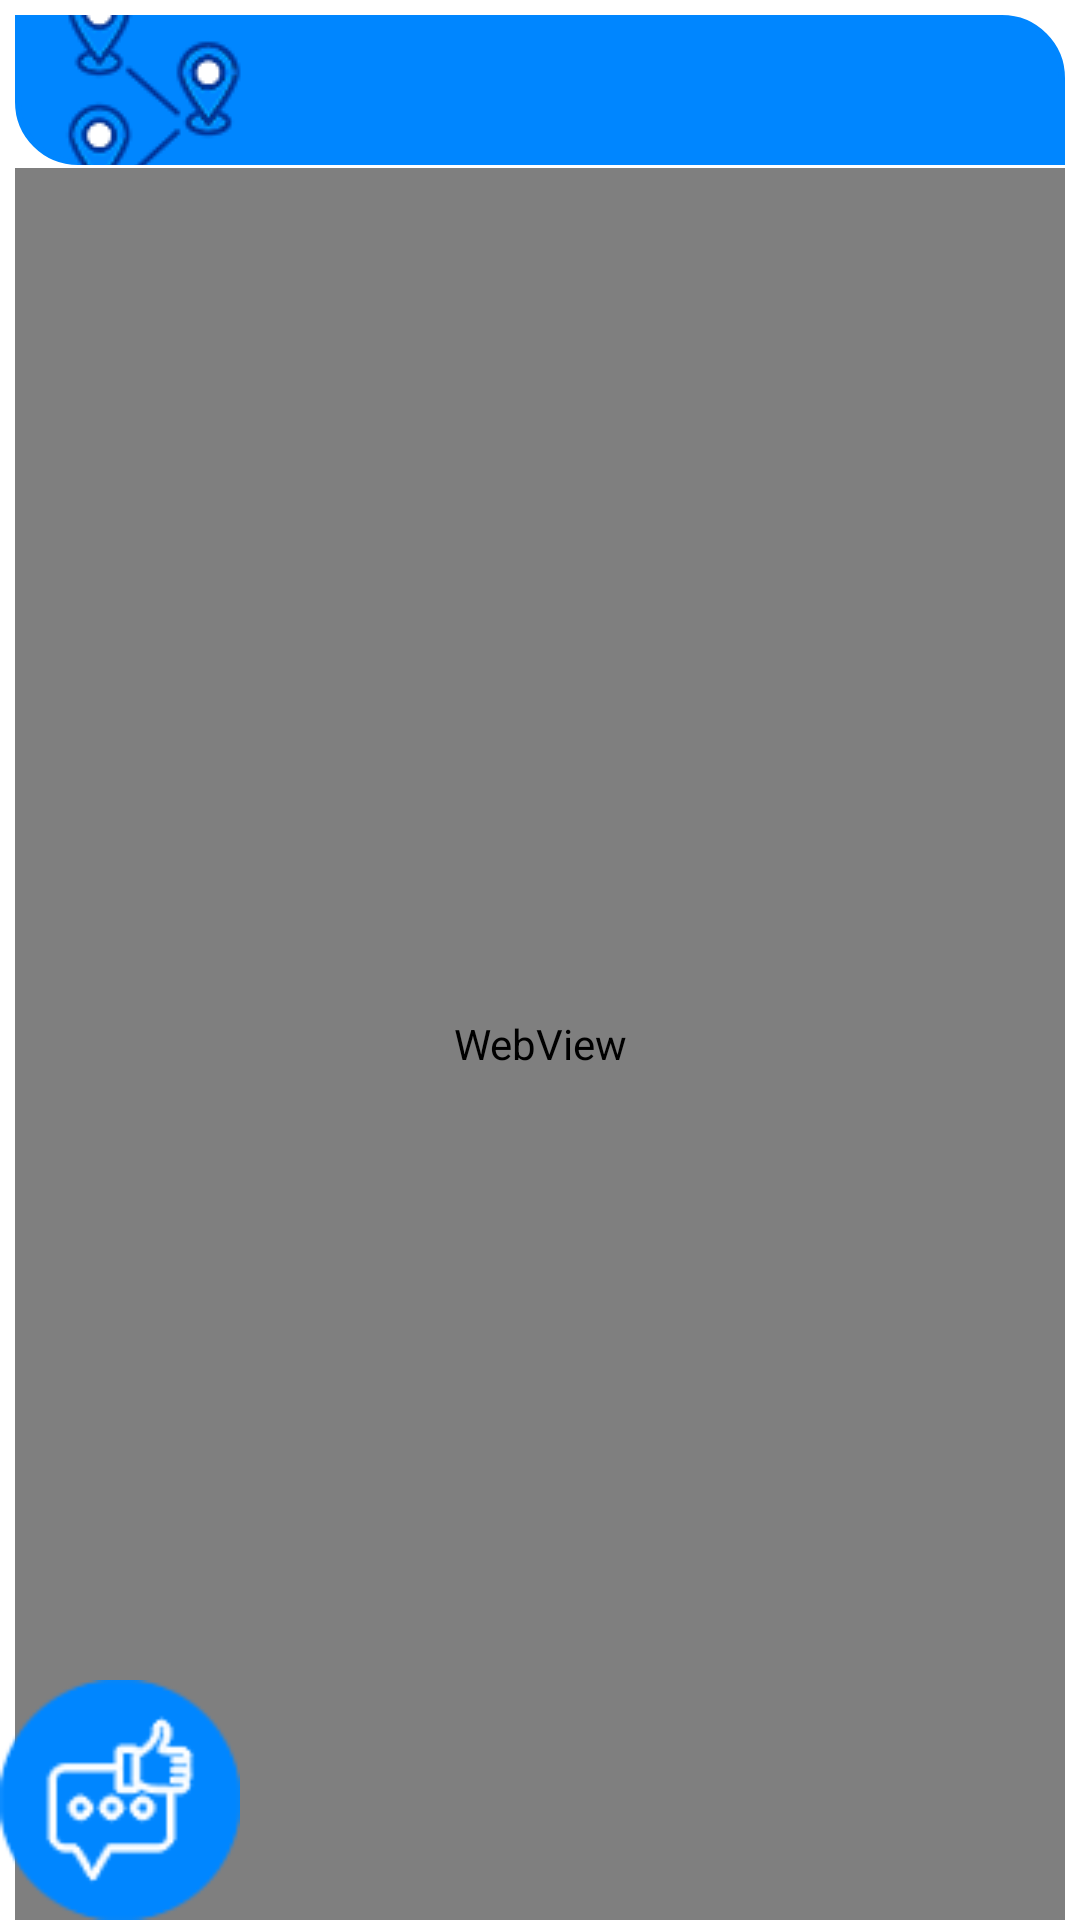

Icons on this 1080 × 1920 Android screen, each with the point to tap as (x=x, y=y):
feedback circle: (x=120, y=1800)
